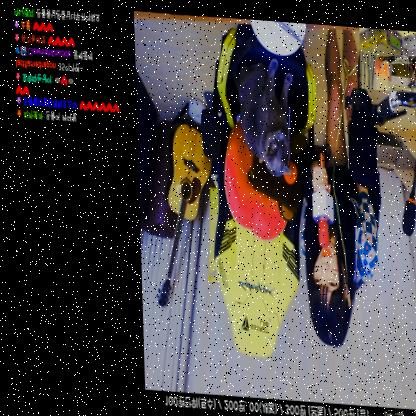streamer: (293, 20, 383, 346)
